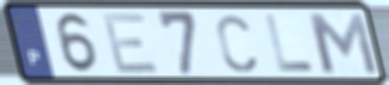6: (54, 11, 101, 75)
7: (154, 8, 200, 78)
C: (214, 13, 259, 75)
E: (99, 11, 162, 75)
L: (262, 12, 318, 74)
M: (303, 10, 381, 76)
